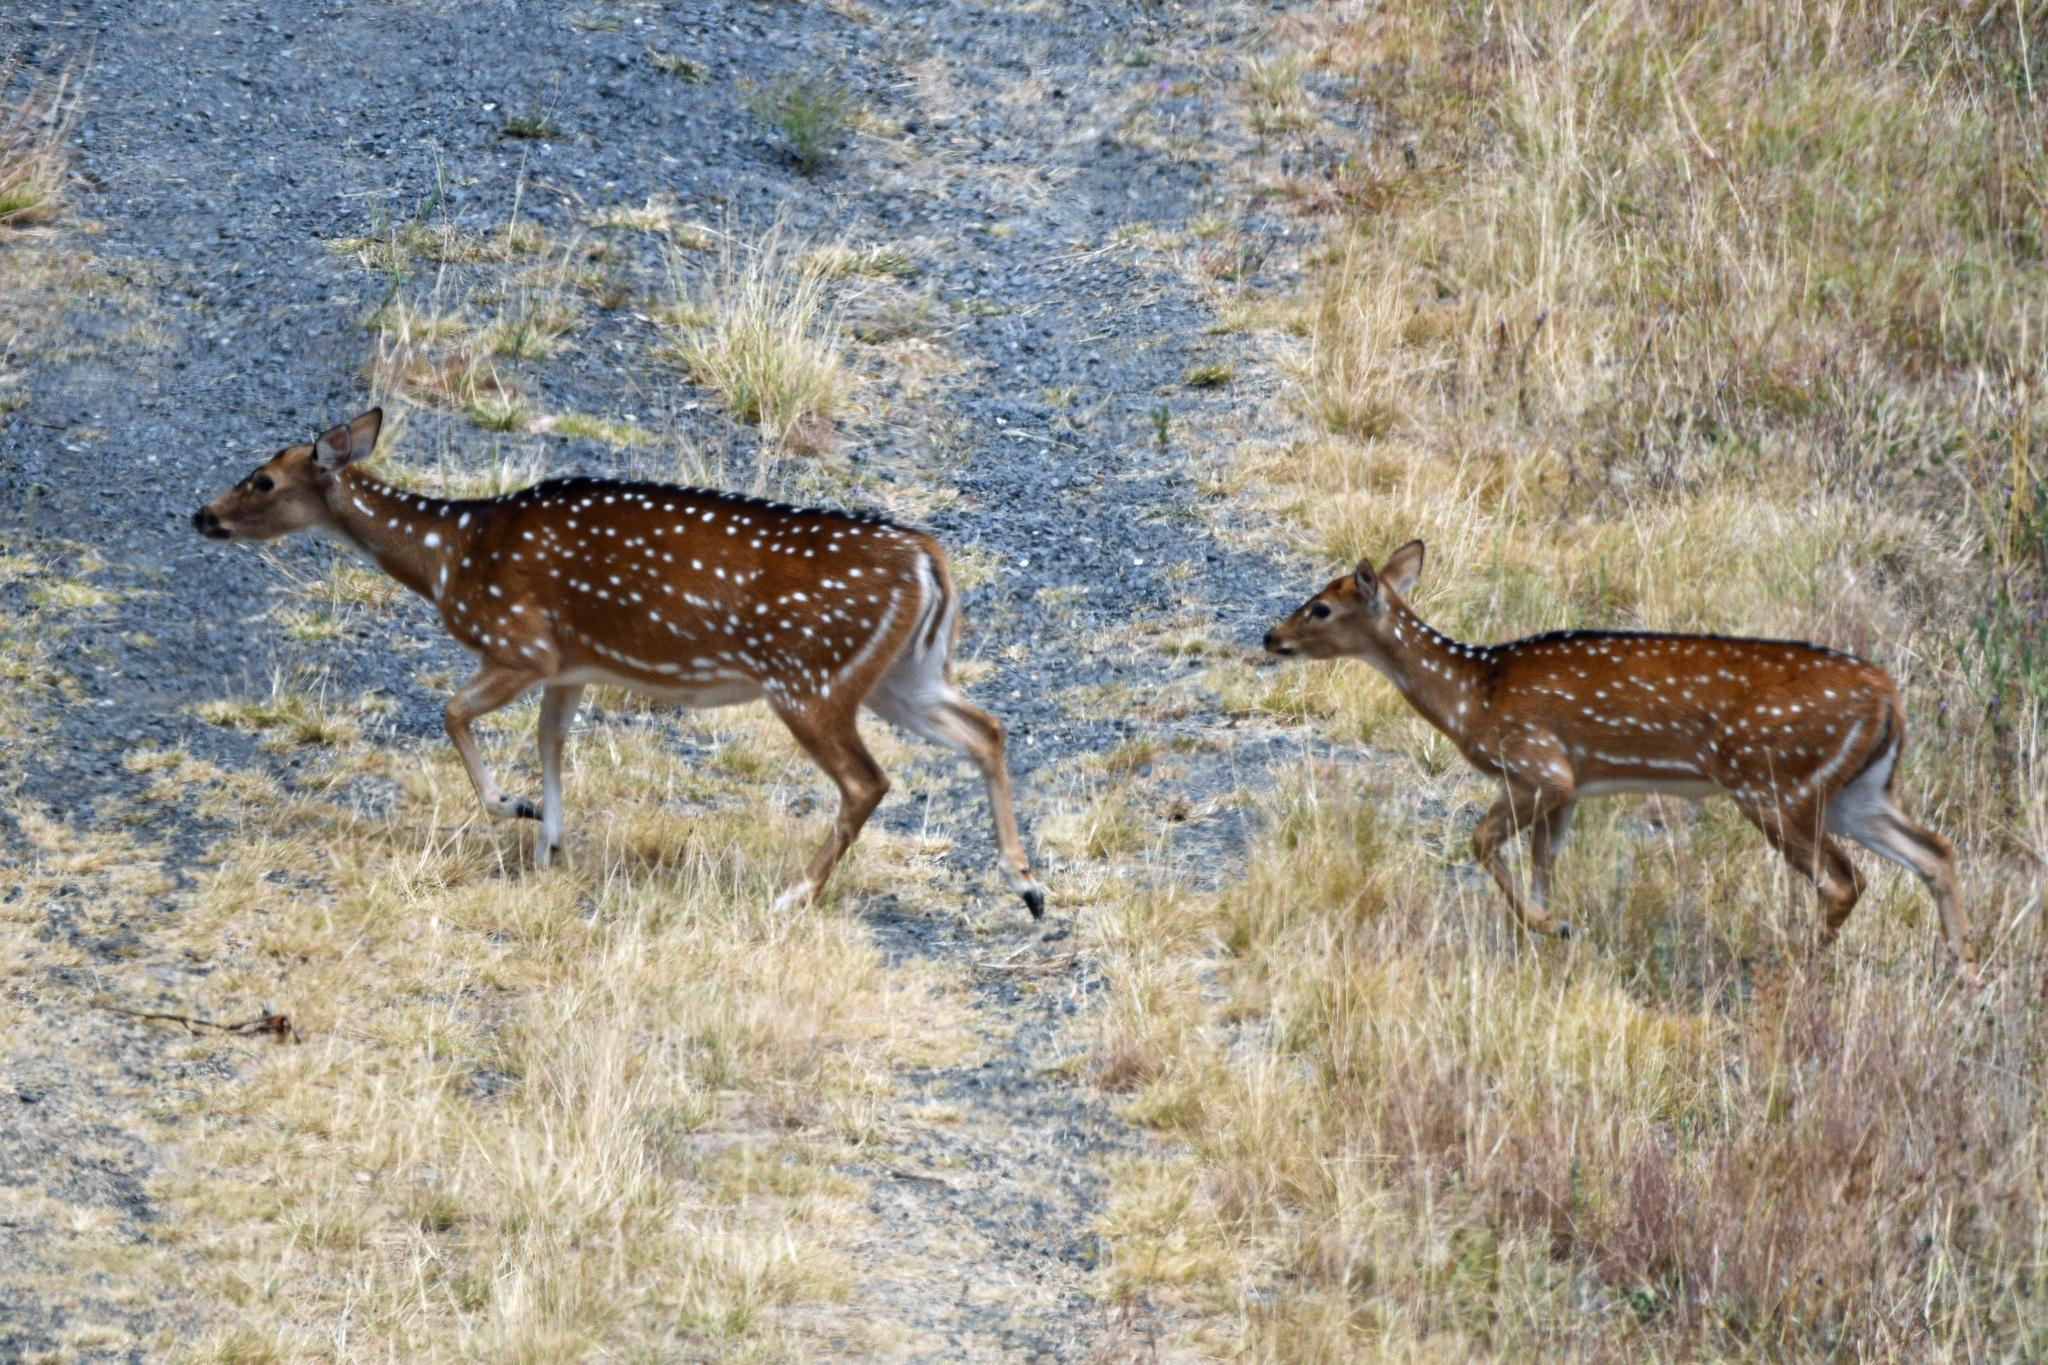Deer: (193, 408, 1043, 914), (1265, 539, 1970, 963)
